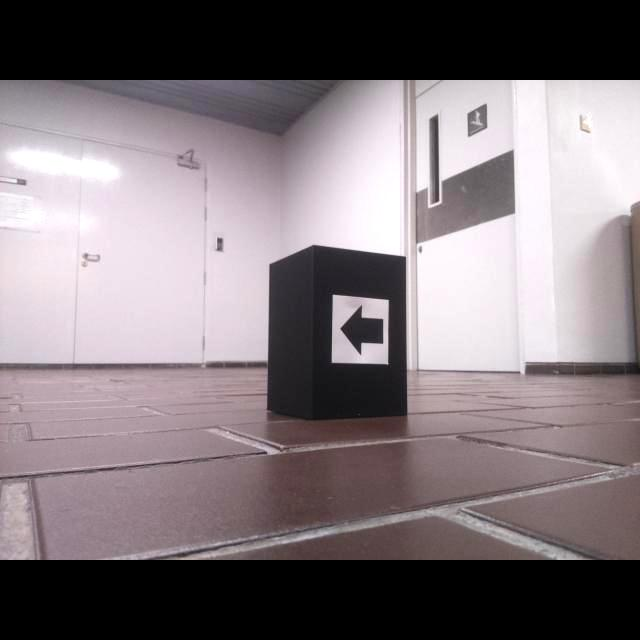LEFT: (339, 303, 384, 356)
